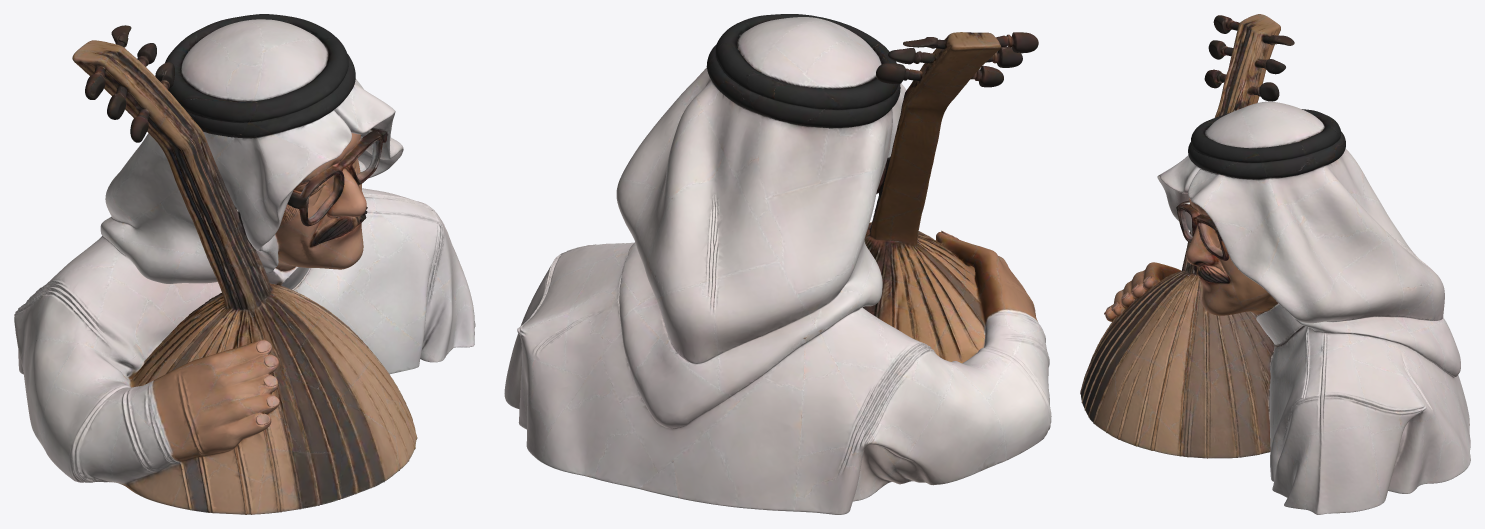
File: Talal-Ab3ad3d.preview-v1.glb
3 views of the same model, side by side, from view 1: azimuth 30°, elevation 25°; view 2: azimuth 150°, elevation 25°; view 3: azimuth 270°, elevation 25° (orthographic). The views are drawn at different scales.
Visible parts, largest first — view 1: tmpzkeb2at9obj; view 2: tmpzkeb2at9obj; view 3: tmpzkeb2at9obj.
Boxes of the visible parts, x1,y1,x2,y2 form: tmpzkeb2at9obj: [14, 14, 475, 514]; tmpzkeb2at9obj: [504, 14, 1051, 514]; tmpzkeb2at9obj: [1080, 14, 1470, 514].
Size of the model in its own units: 1 by 0.831 by 0.896.
Materials: 1 (1 with a texture image).
